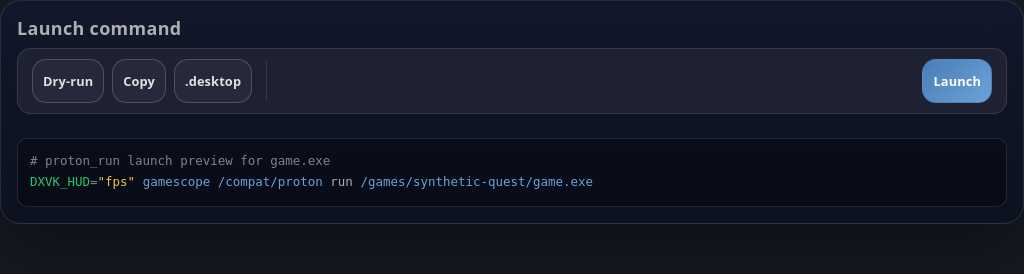
HeroLaunchCommandSection › shows "Failed to copy command." alert when copy throws
Click the button "Copy". click: (139, 81)
box: [112, 59, 166, 103]
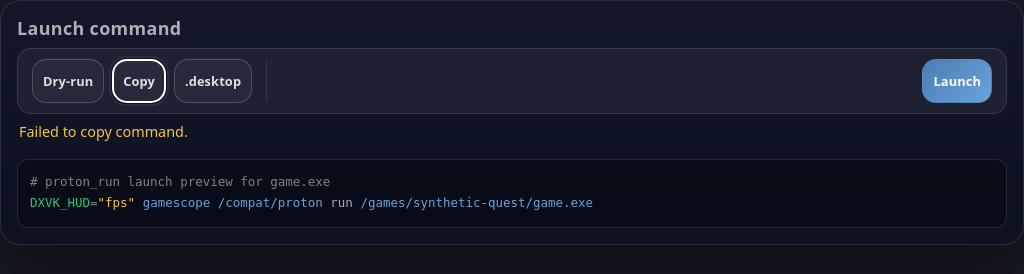
Now the message reads "Failed to copy command.", box [19, 122, 188, 141]
